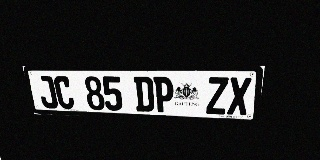5: (102, 76, 123, 111)
8: (83, 76, 105, 110)
C: (53, 76, 75, 109)
D: (134, 76, 154, 112)
J: (36, 76, 59, 109)
P: (153, 77, 174, 113)
X: (227, 77, 252, 115)
Z: (206, 77, 229, 114)
